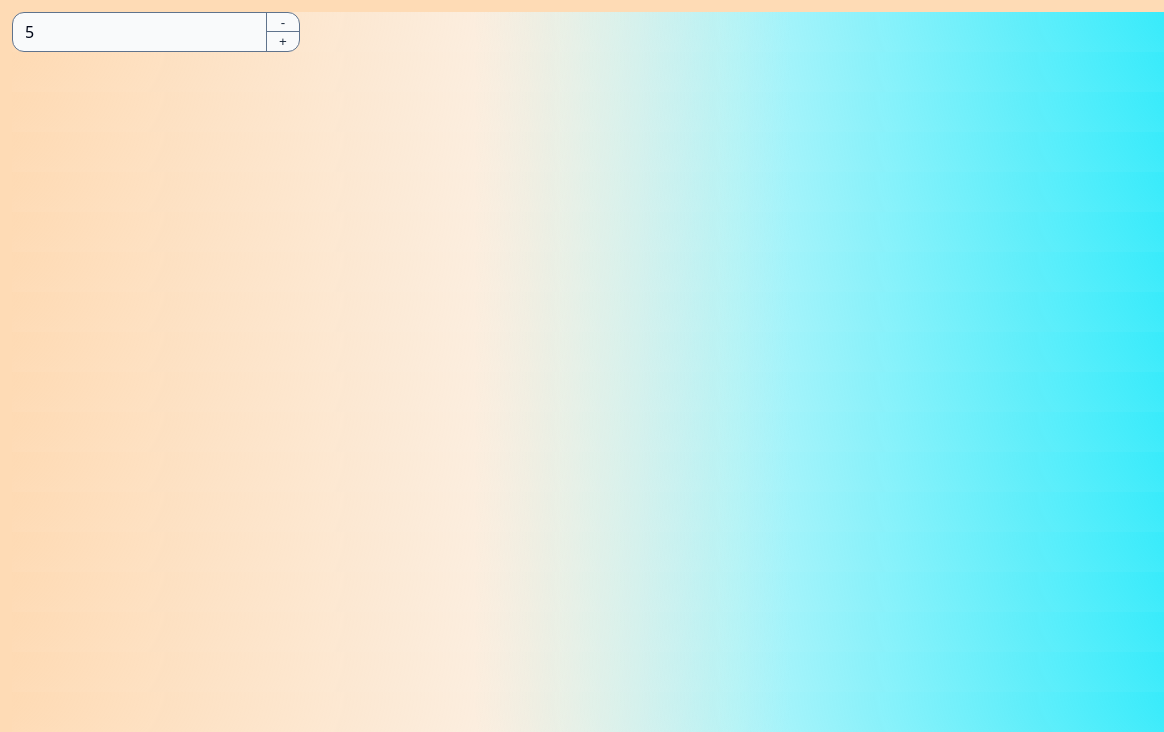
Test: NumberField › неуправляемый режим › defaultValue и ввод, onValueChange получает число
The width and height of the screenshot is (1164, 732).
Type "2" into the number field named "Qty". click: (140, 32)
box: [13, 13, 266, 51]
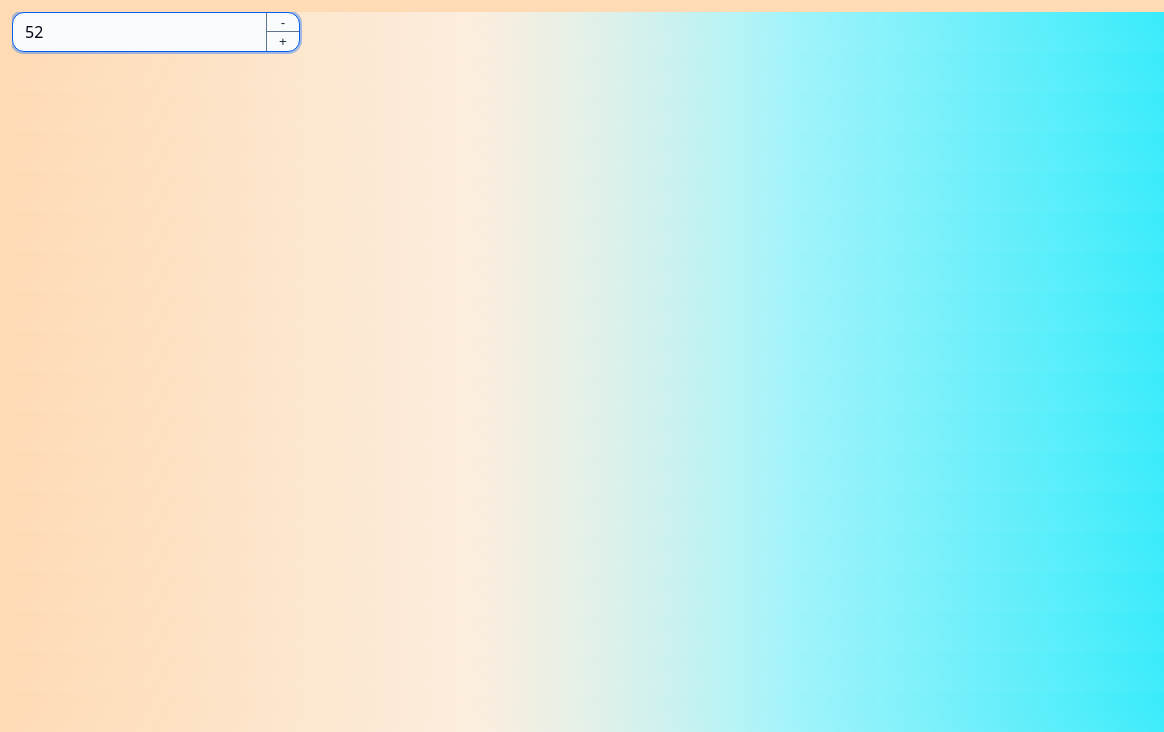
Expected: the number field named "Qty" holds "52", [13, 13, 266, 51]
